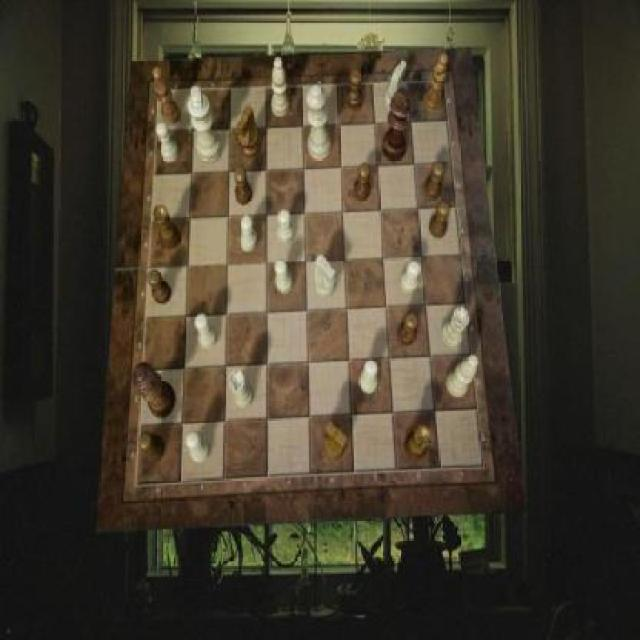bishop: (154, 68, 181, 126), (423, 54, 448, 112)
black-bishop: (383, 88, 411, 162)
black-king: (237, 106, 260, 159), (323, 420, 347, 462)
black-knight: (138, 431, 166, 462), (148, 269, 172, 304), (429, 202, 450, 239), (426, 162, 446, 200), (397, 314, 419, 348), (235, 168, 253, 206), (354, 163, 371, 202), (346, 71, 362, 111)
black-pawn: (132, 362, 176, 419)
black-queen: (154, 205, 181, 250), (405, 426, 432, 462)
black-rook: (446, 354, 479, 398), (271, 58, 288, 118)
white-bishop: (188, 86, 222, 164)
white-king: (384, 60, 408, 112), (315, 254, 338, 298)
white-knight: (157, 122, 180, 163), (186, 432, 211, 465), (196, 314, 218, 350), (400, 260, 421, 294), (358, 359, 378, 393), (240, 216, 258, 252), (277, 209, 295, 244), (276, 259, 294, 293)
white-pawn: (308, 84, 332, 160)
white-queen: (442, 308, 471, 348), (229, 371, 254, 409)
